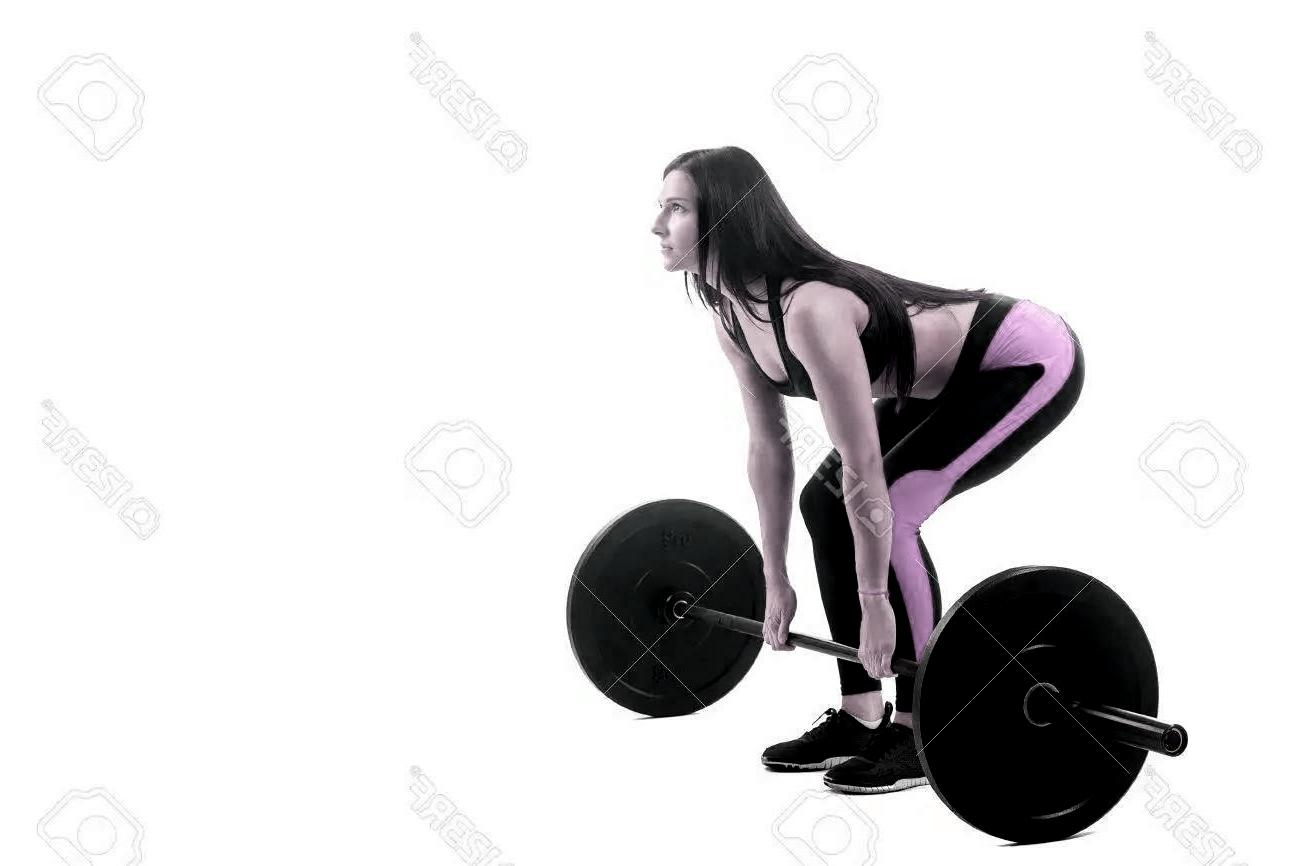Barbell: (1151, 721, 1194, 761)
